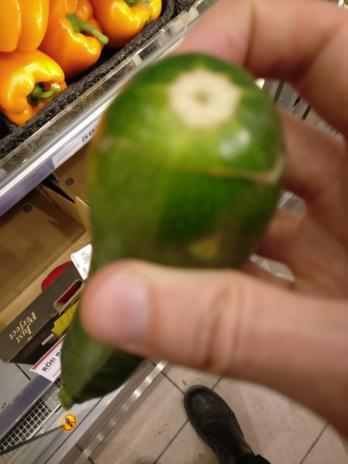Cucumber: (55, 52, 283, 400)
